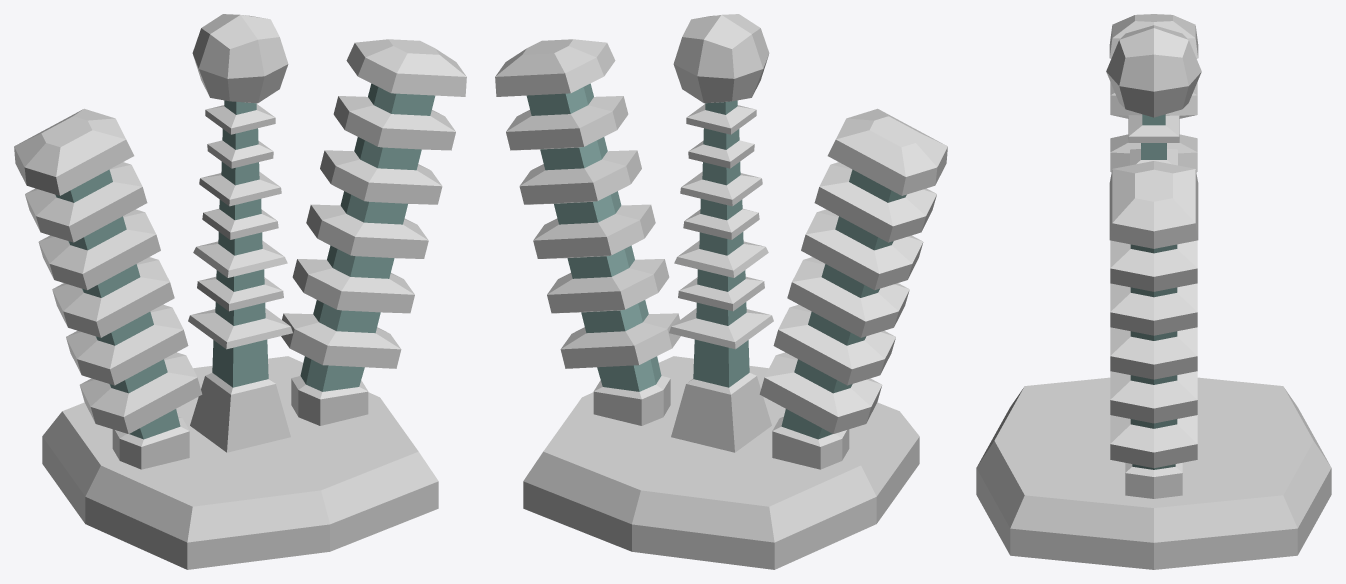
File: TeslaTower.fbx
3 views of the same model, side by side, from view 1: azimuth 30°, elevation 25°; view 2: azimuth 150°, elevation 25°; view 3: azimuth 270°, elevation 25° (orthographic).
Visible parts, largest first — view 1: TeslaTower_LOD0; view 2: TeslaTower_LOD0; view 3: TeslaTower_LOD0.
Boxes of the visible parts, left/top/right/bottom form: TeslaTower_LOD0: left=14, top=14, right=466, bottom=569; TeslaTower_LOD0: left=495, top=14, right=947, bottom=569; TeslaTower_LOD0: left=976, top=14, right=1331, bottom=569.
Size of what is drawn, in the model's own units: 327 by 341 by 235.
